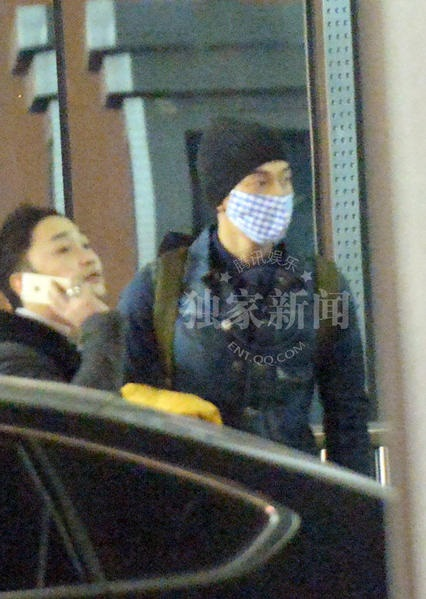face: (35, 209, 107, 298)
face_mask: (236, 164, 296, 248)
